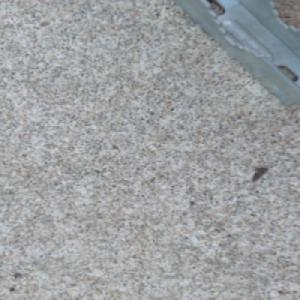ClampPart: (169, 0, 300, 108)
